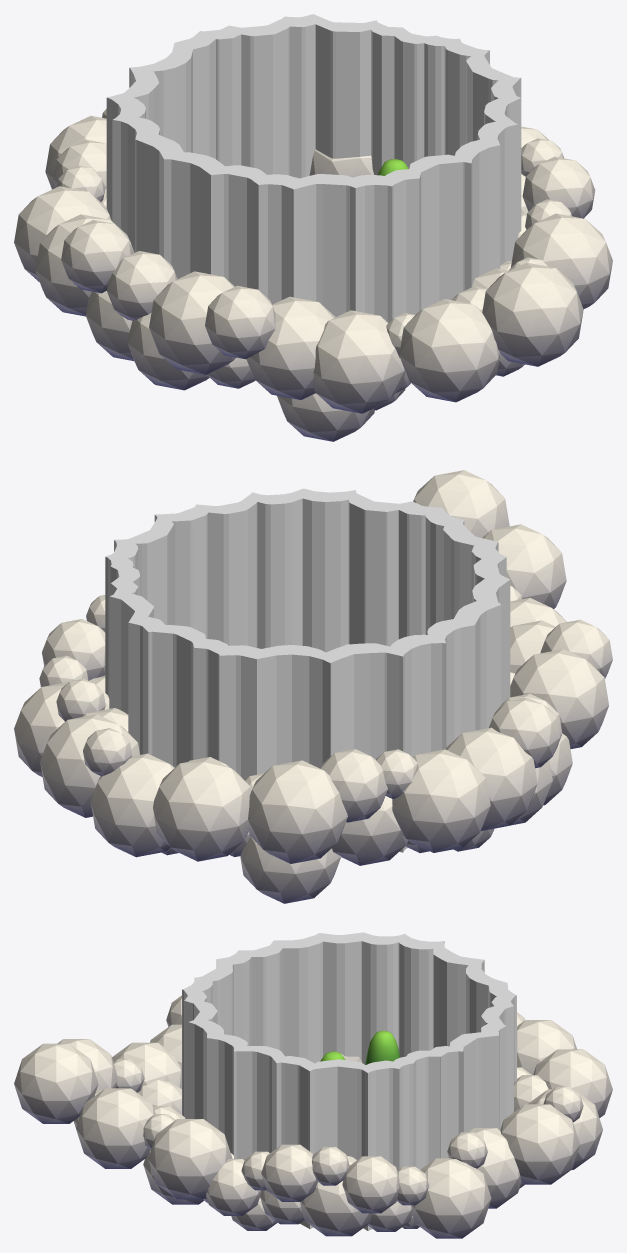
Rendered from environment.glb.
The picture shows the model from 3 angles, top to bottom: view 1: azimuth 30°, elevation 25°; view 2: azimuth 150°, elevation 25°; view 3: azimuth 270°, elevation 25°; orthographic projection. The views are drawn at different scales.
Parts seen in each view (by area): view 1: Arena, Cloud.059, Cloud.061, Cloud.055, Cloud.028, Cloud.029, Cloud.045, Cloud.030, Cloud.027, Cloud.024, Cloud.026, Cloud.048 (+11 smaller); view 2: Arena, Cloud.036, Cloud.031, Cloud.024, Cloud.035, Cloud.028, Cloud.025, Cloud.039, Cloud.059, Cloud.061, Cloud.004, Cloud.033 (+13 smaller); view 3: Arena, Cloud.061, Cloud.045, Cloud.053, Cloud.039, Cloud.040, Cloud.036, Cloud.043, Cloud.002, Cloud.048, Cloud.003, Cloud.031 (+19 smaller).
Part boxes in pixels (<box>): Arena: <box>106,14,521,322</box>; Cloud.059: <box>399,299,500,402</box>; Cloud.061: <box>482,263,583,366</box>; Cloud.055: <box>313,310,405,413</box>; Cloud.028: <box>149,271,235,374</box>; Cloud.029: <box>246,296,335,399</box>; Cloud.045: <box>511,213,612,309</box>; Cloud.030: <box>205,285,275,359</box>; Cloud.027: <box>61,220,133,293</box>; Cloud.024: <box>14,186,111,281</box>; Cloud.026: <box>106,251,177,320</box>; Cloud.048: <box>522,156,595,218</box>; Arena: <box>105,488,510,852</box>; Cloud.036: <box>153,758,250,861</box>; Cloud.031: <box>248,760,347,863</box>; Cloud.024: <box>392,749,490,852</box>; Cloud.035: <box>90,753,174,857</box>; Cloud.028: <box>510,649,608,748</box>; Cloud.025: <box>446,727,537,830</box>; Cloud.039: <box>40,714,139,817</box>; Cloud.059: <box>482,524,566,608</box>; Cloud.061: <box>413,470,509,537</box>; Cloud.004: <box>240,836,340,903</box>; Cloud.033: <box>320,749,387,822</box>; Arena: <box>182,932,516,1230</box>; Cloud.061: <box>14,1043,98,1123</box>; Cloud.045: <box>148,1119,232,1199</box>; Cloud.053: <box>76,1088,155,1168</box>; Cloud.039: <box>500,1104,579,1184</box>; Cloud.040: <box>411,1158,491,1238</box>; Cloud.036: <box>533,1049,612,1117</box>; Cloud.043: <box>342,1156,399,1213</box>; Cloud.002: <box>300,1156,372,1236</box>; Cloud.048: <box>261,1144,317,1201</box>; Cloud.003: <box>469,1128,521,1208</box>; Cloud.031: <box>517,1020,576,1074</box>.
Bounding box in the file's own units: 466 × 220 × 605.
1 material, 1 textured.
